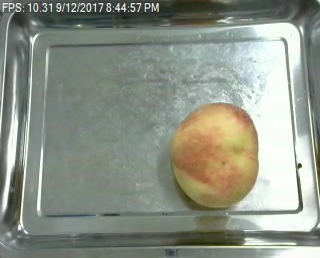Peach: (170, 101, 261, 209)
